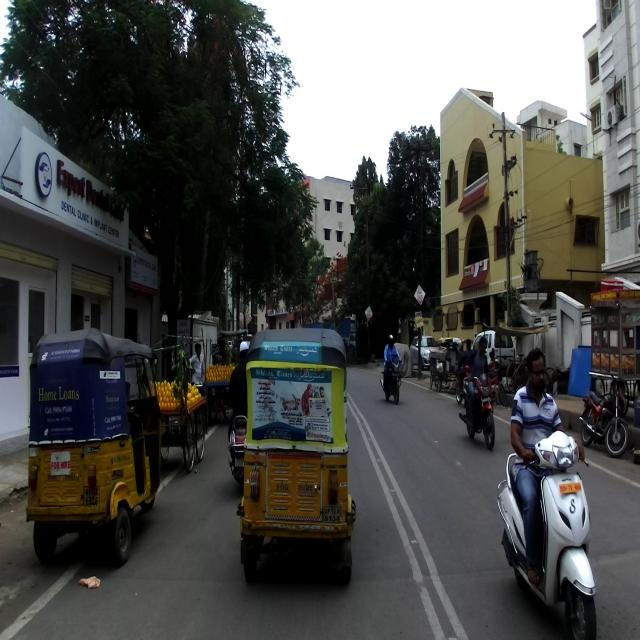autorickshaw: (24, 328, 160, 568), (236, 325, 356, 586)
motorcycle: (578, 373, 628, 457), (458, 364, 495, 449)
scooter: (496, 427, 599, 639), (227, 386, 260, 488)
